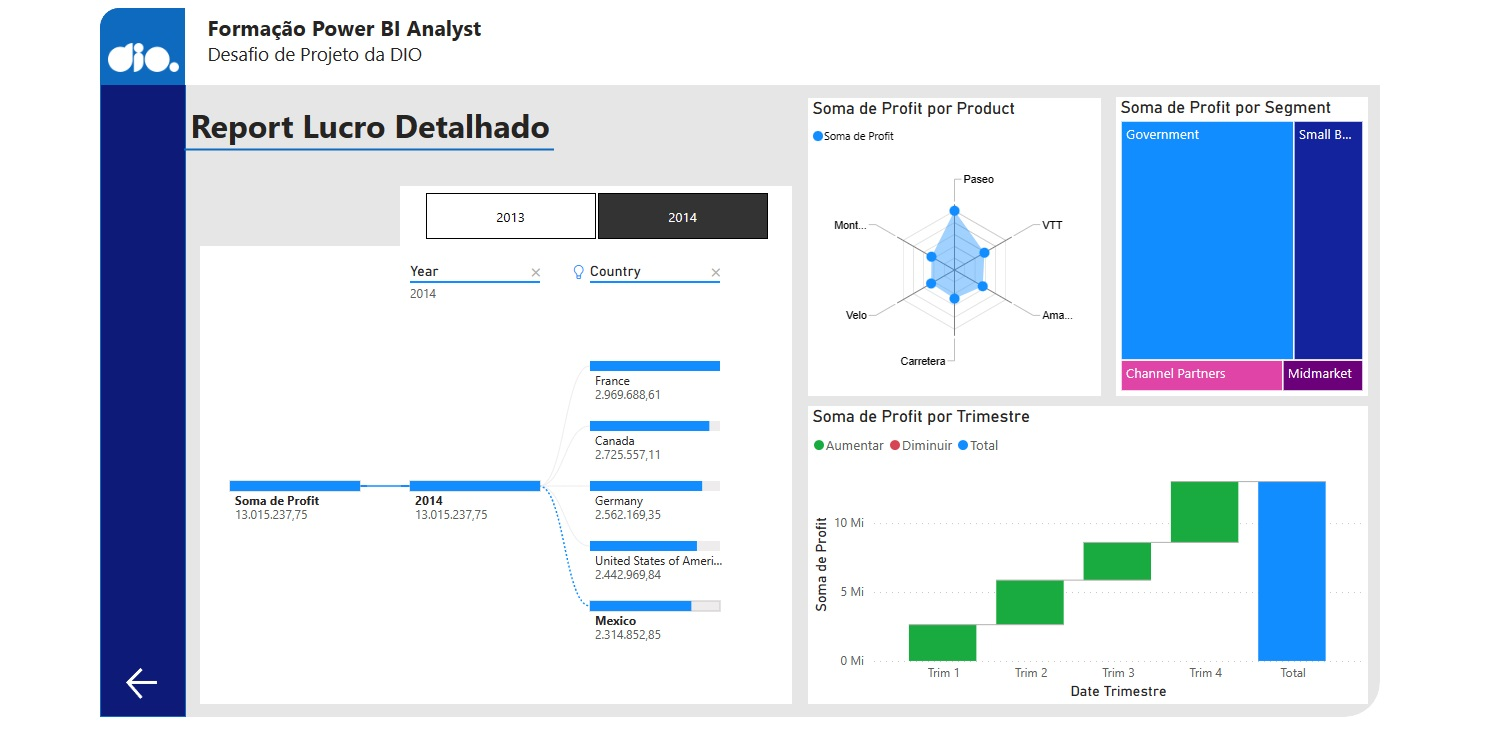

This screenshot's page, from the dashboard's own definition file:
{"tool":"powerbi","page":{"name":"Página 2","canvas":[1280,720],"ordinal":1},"visuals":[{"type":"decompositionTreeVisual","fields":{"Analyze":["Sum(financials.Profit)"],"ExplainBy":["financials.Year","financials.Country"]},"box":[100,248.6,591.9,458.1],"z":0,"group":"g1"},{"type":"shape","box":[0,11.7,1280,708.5],"z":0},{"type":"shape","box":[0,11.7,86.4,708],"z":1000},{"type":"shape","box":[0,11,86.4,77],"z":2000},{"type":"image","title":"logo_dio","box":[2.9,20.4,81.6,79.6],"z":3000},{"type":"shape","box":[84.8,11,1195.2,77],"z":4000},{"type":"textbox","box":[103.3,11.5,304.2,76.5],"z":5000},{"type":"shape","box":[83.8,101.4,370.3,102.7],"z":6000},{"type":"textbox","box":[86.1,101.4,493.6,57.4],"z":7000},{"type":"RadarChart1446119667547","fields":{"Y":["Sum(financials.Profit)"],"Category":["financials.Product"]},"box":[708.1,101.4,293.2,297.3],"z":10000},{"type":"treemap","fields":{"Values":["Sum(financials.Profit)"],"Group":["financials.Segment"]},"box":[1016.2,100,251.4,298.6],"z":11000},{"type":"waterfallChart","fields":{"Category":["financials.Date.Variation.Hierarquia de datas.Trimestre"],"Y":["Sum(financials.Profit)"]},"box":[708.1,409.5,559.5,297.3],"z":12000},{"type":"group","id":"g1","title":"Profit por Ano","box":[100,248.6,591.9,458.1],"z":13000},{"type":"slicer","fields":{"Values":["financials.Date.Variation.Hierarquia de datas.Ano"]},"box":[300,189.2,391.9,59.5],"z":13001},{"type":"actionButton","box":[21.6,666.2,43.2,40.5],"z":13002}]}

Visuals, with their boxes on the page's 1280x720 design canvas (x1, y1, x2, y2). These are canvas units, not pixel positions in the 1501x751 screenshot, which may show the page scaled, cropped or inside an application window:
decompositionTreeVisual - Sum(financials.Profit) x financials.Year: pyautogui.locateOnScreen(100, 249, 692, 707)
shape: pyautogui.locateOnScreen(0, 12, 1280, 720)
shape: pyautogui.locateOnScreen(0, 12, 86, 720)
shape: pyautogui.locateOnScreen(0, 11, 86, 88)
"logo_dio" image: pyautogui.locateOnScreen(3, 20, 84, 100)
shape: pyautogui.locateOnScreen(85, 11, 1280, 88)
textbox: pyautogui.locateOnScreen(103, 12, 408, 88)
shape: pyautogui.locateOnScreen(84, 101, 454, 204)
textbox: pyautogui.locateOnScreen(86, 101, 580, 159)
RadarChart1446119667547 - Sum(financials.Profit) x financials.Product: pyautogui.locateOnScreen(708, 101, 1001, 399)
treemap - Sum(financials.Profit) x financials.Segment: pyautogui.locateOnScreen(1016, 100, 1268, 399)
waterfallChart - financials.Date.Variation.Hierarquia de datas.Trimestre x Sum(financials.Profit): pyautogui.locateOnScreen(708, 410, 1268, 707)
"Profit por Ano" group: pyautogui.locateOnScreen(100, 249, 692, 707)
slicer - financials.Date.Variation.Hierarquia de datas.Ano: pyautogui.locateOnScreen(300, 189, 692, 249)
actionButton: pyautogui.locateOnScreen(22, 666, 65, 707)
